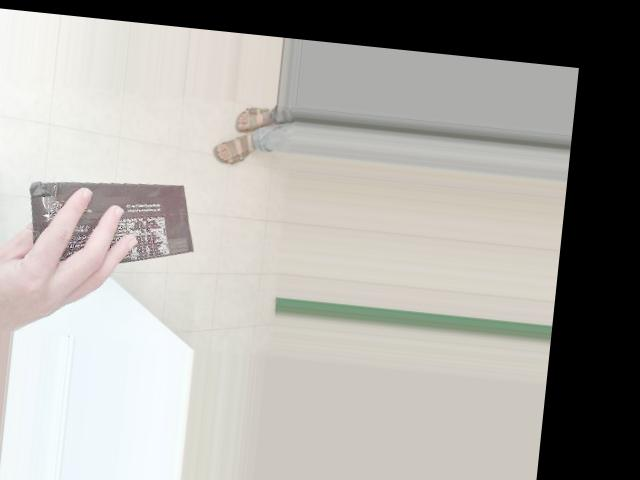chocolate: (86, 75, 213, 268)
